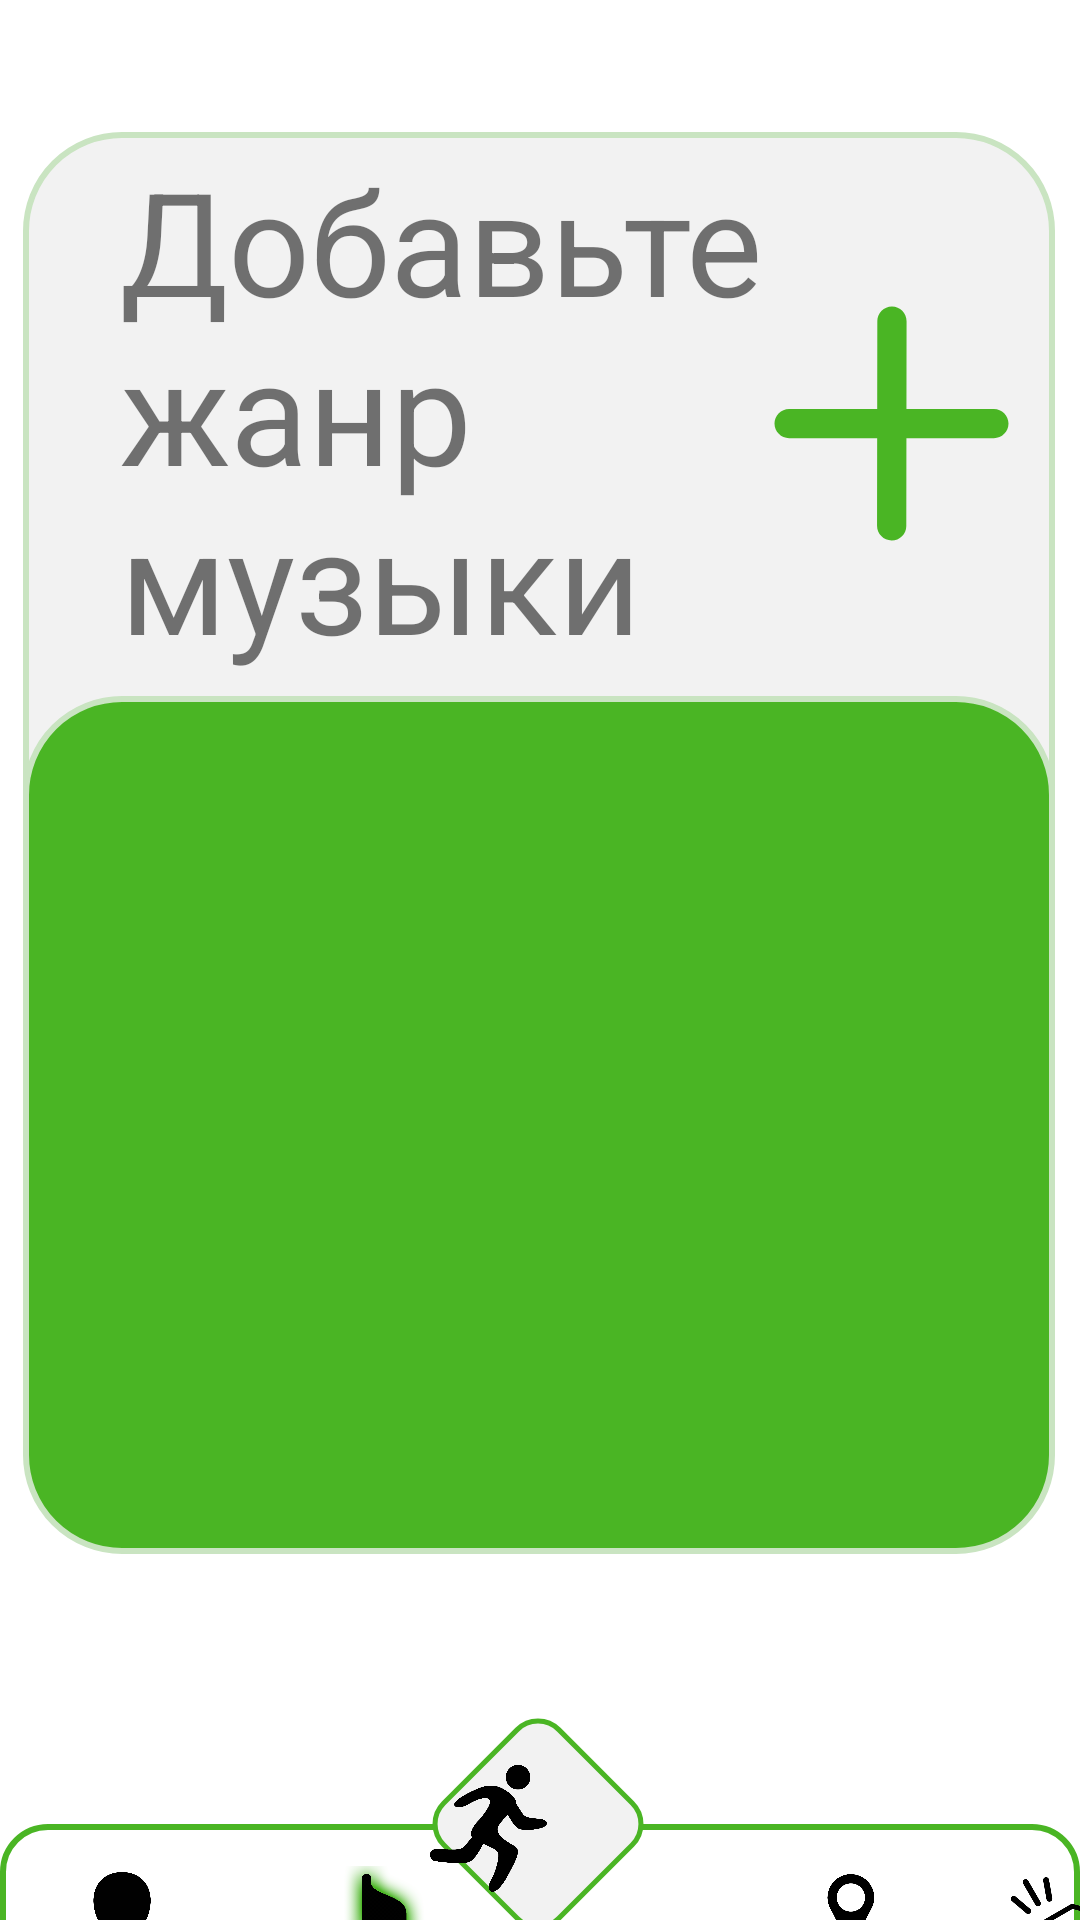

Icons on this 1080×1920 Android screen, each with its box as (x1, y1, x2, y2):
plus: (774, 306, 1009, 541)
